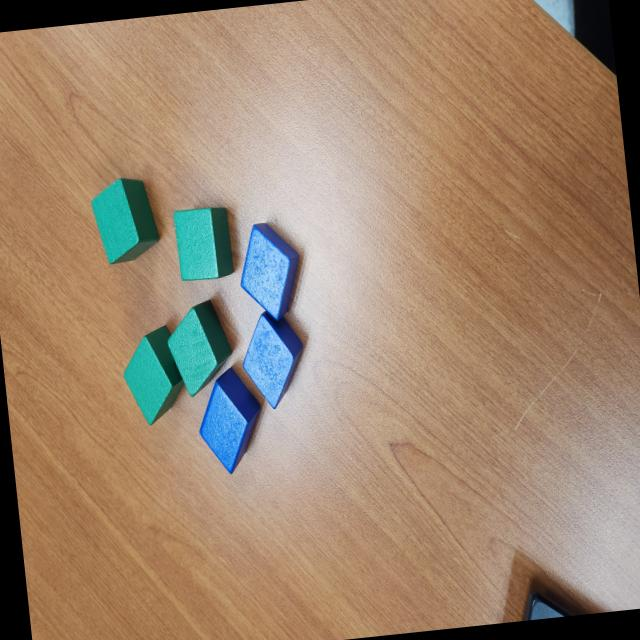blue: (193, 364, 268, 476), (233, 218, 306, 326), (237, 306, 309, 411)
green: (161, 297, 240, 399), (117, 324, 189, 428), (87, 172, 163, 266), (170, 205, 236, 282)
